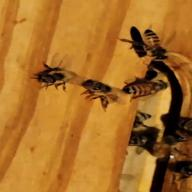Bee: (126, 22, 187, 62), (115, 74, 177, 100), (34, 60, 83, 92)
